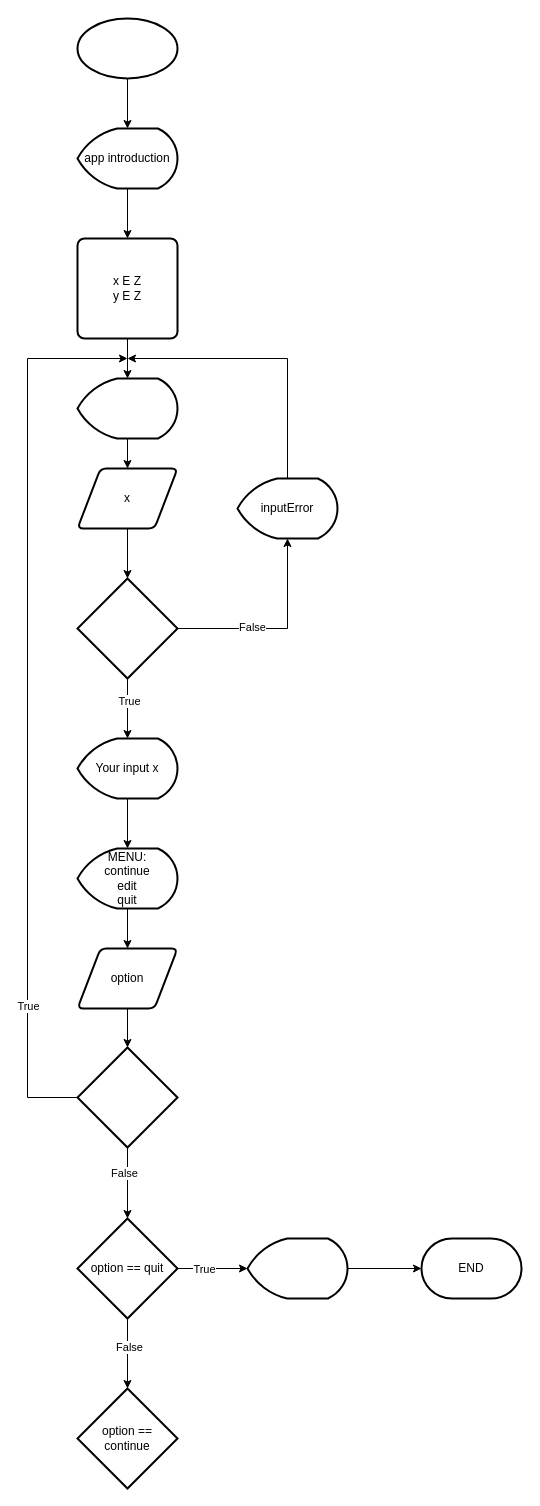
Image size: 540x1506. Some labels were removed from this diagram. The centre of each missing label's shape, as x and y in pixels:
"input first whole number from 0 to 100" belongs at [127,408].
"option == edit" belongs at [127,1097].
"Saving and quitting" belongs at [297,1268].
"START porovnavac hodnot" belongs at [127,48].
"x == n; n E Z AND n >= 0 AND n <= 100" belongs at [127,628].
